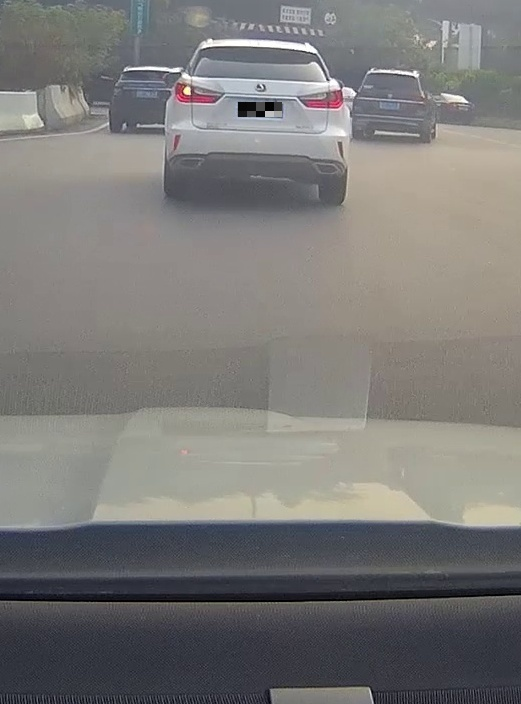L_light: (174, 81, 224, 103)
R_light: (297, 89, 344, 109)
T_light: (248, 47, 271, 51)
day-left: (169, 41, 347, 203)
plate_1: (238, 102, 282, 117)
